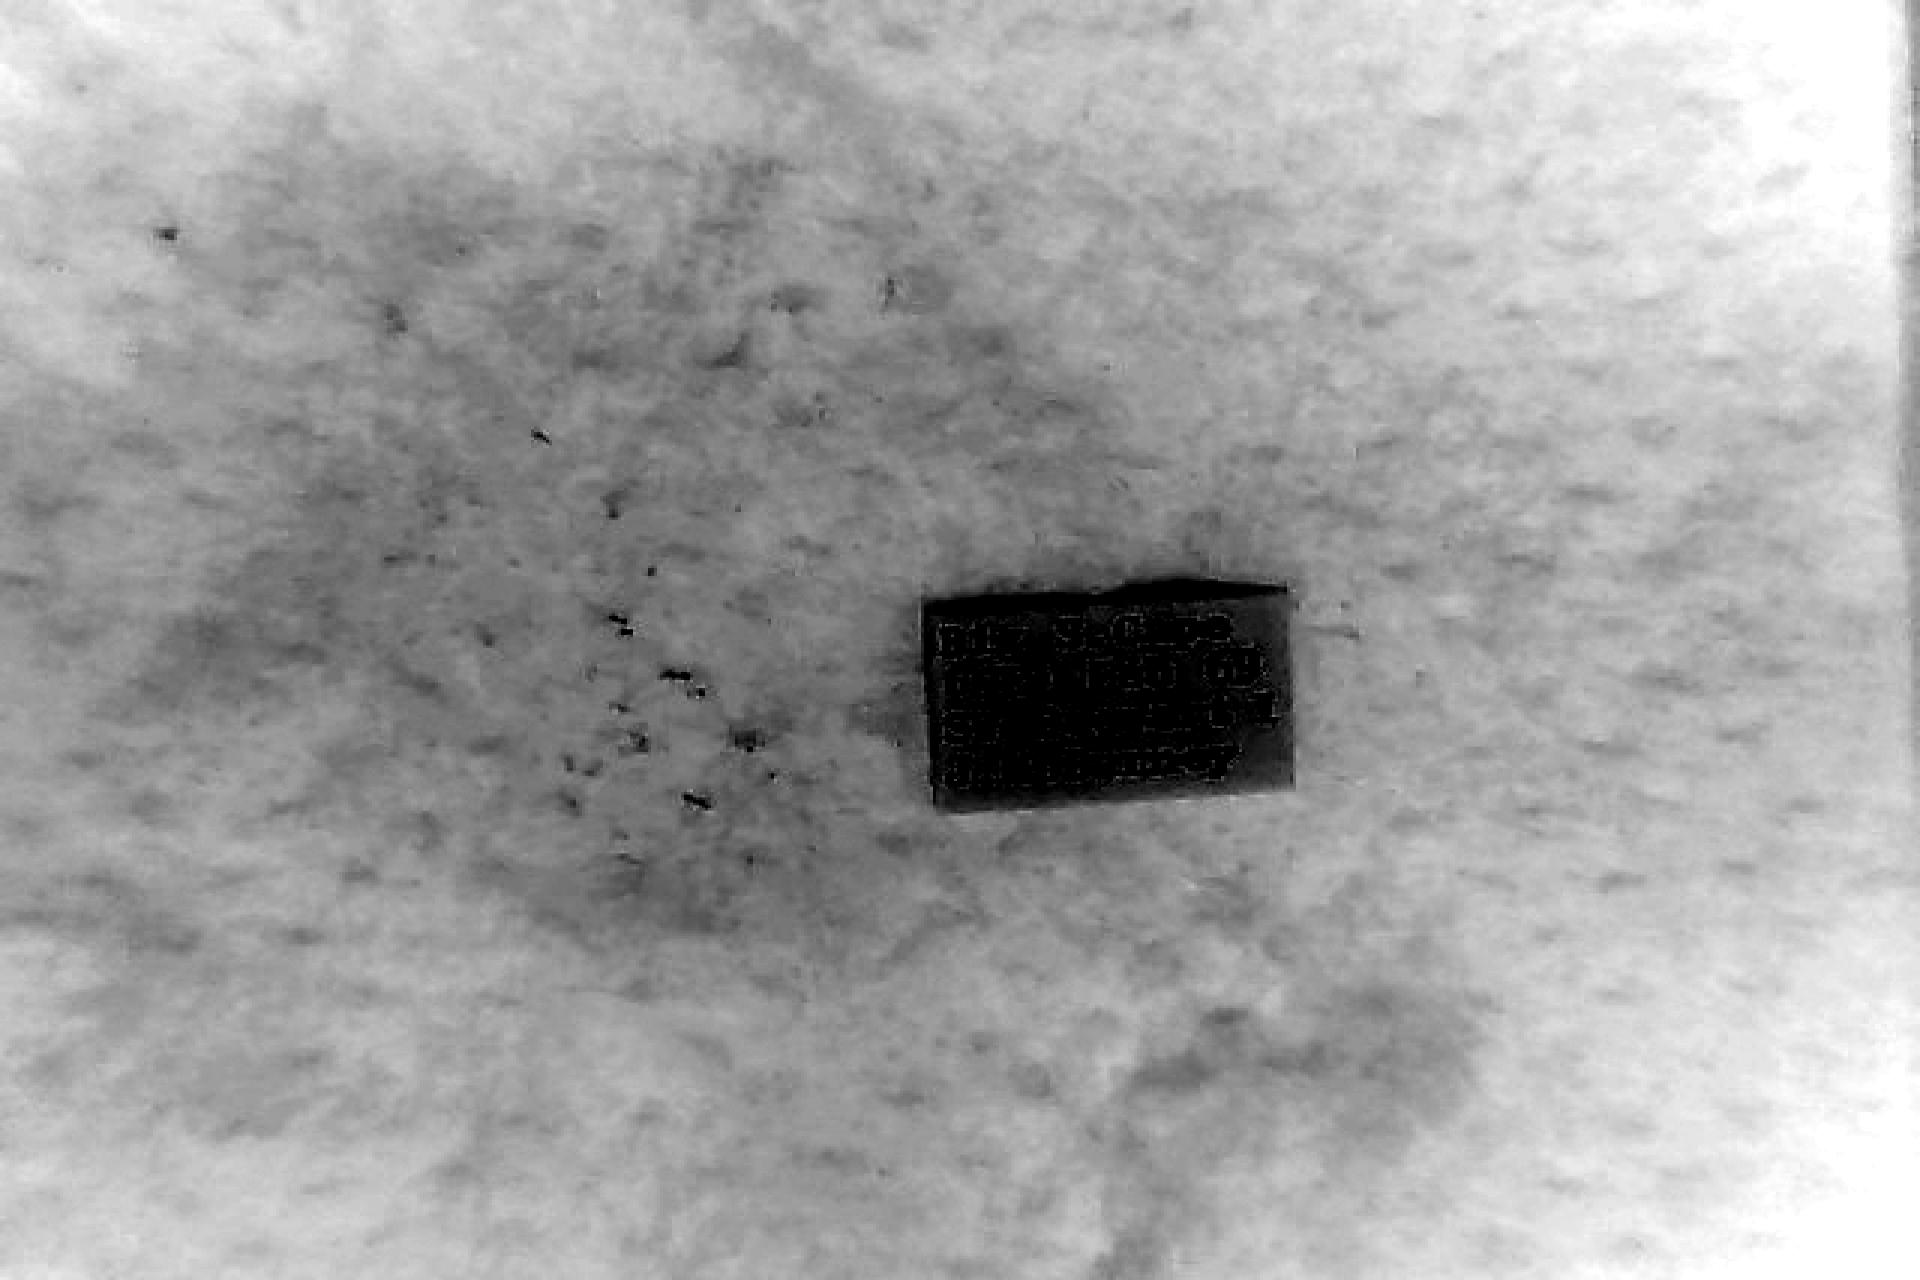typed_label: (928, 592, 1292, 810)
